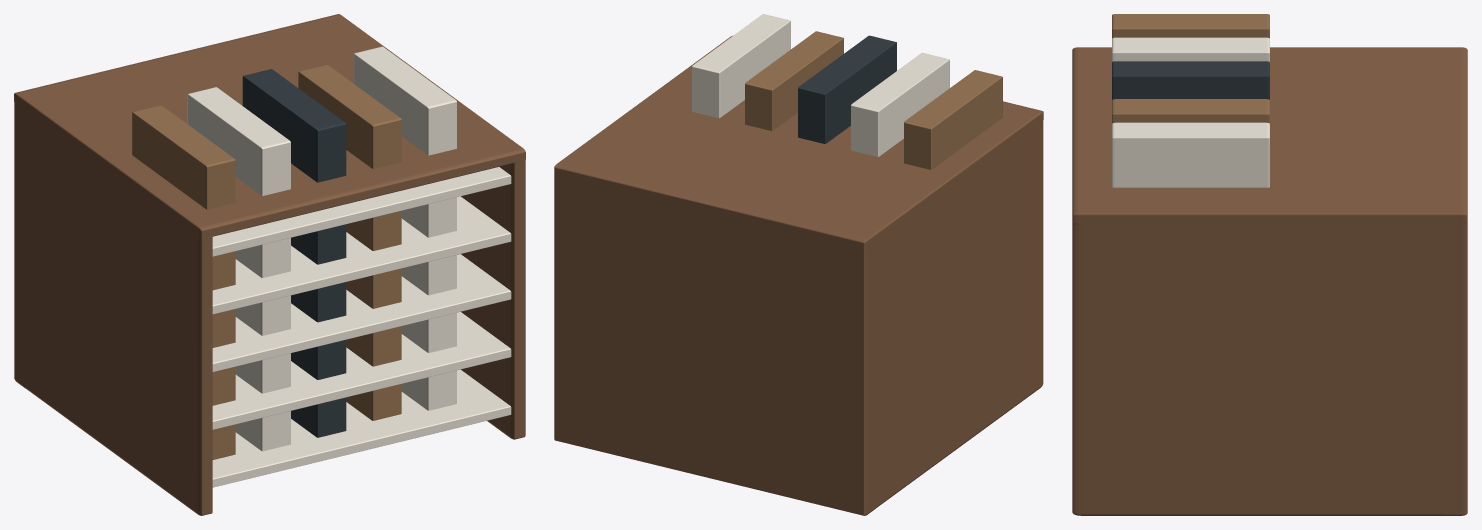
Rendered from shelf-17-2.glb.
The picture shows the model from 3 angles, left to right: view 1: azimuth 30°, elevation 25°; view 2: azimuth 150°, elevation 25°; view 3: azimuth 270°, elevation 25°; orthographic projection. The views are drawn at different scales.
Visible parts, largest first — view 1: upholstery (×2), book (×2); view 2: upholstery (×2), book (×2); view 3: upholstery (×2), book (×2).
Part boxes in pixels (x1,y1,x2,y2): upholstery (×2): (14,14,525,515); book (×2): (132,64,401,459); upholstery (×2): (554,14,1043,515); book (×2): (745,31,1002,169); upholstery (×2): (1072,37,1467,515); book (×2): (1112,14,1269,123).
Size of the model in its own units: 1 by 1 by 1.
